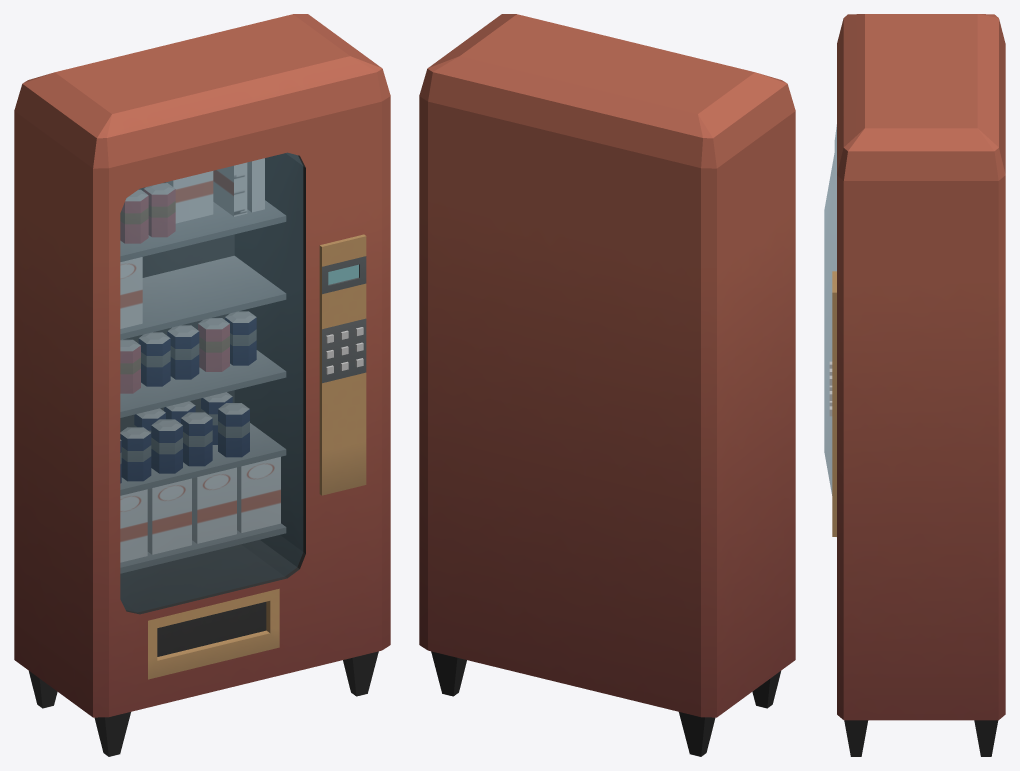
The model's file is VendingMachine.fbx.
3 renders of one model, left to right at view 1: azimuth 30°, elevation 25°; view 2: azimuth 150°, elevation 25°; view 3: azimuth 270°, elevation 25°, orthographic.
Parts seen in each view (by area): view 1: Cube.012, Cube.013; view 2: Cube.012; view 3: Cube.012, Cube.013.
Part boxes in pixels (box(x1,y1,x2,y2)): Cube.012: box(14, 14, 390, 756); Cube.013: box(120, 153, 302, 612); Cube.012: box(419, 14, 795, 756); Cube.012: box(829, 14, 1005, 756); Cube.013: box(824, 125, 836, 495).
Bounding box in the file's own units: 200 × 408 × 107.
